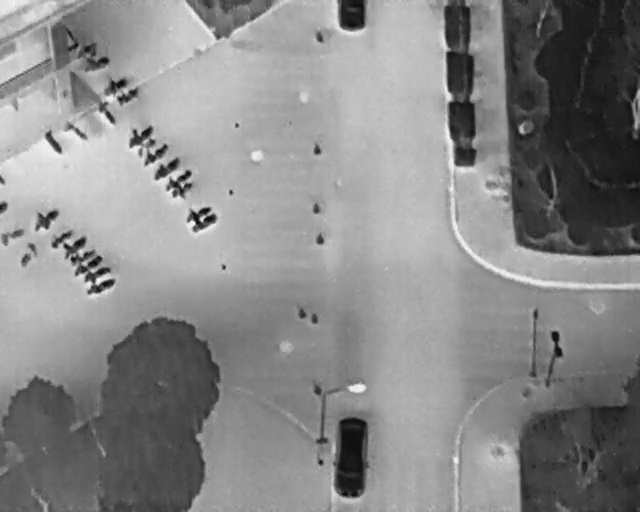Bicycle: (25, 200, 65, 237), (122, 117, 160, 152), (54, 228, 91, 262), (147, 150, 185, 183), (138, 138, 173, 170), (97, 70, 132, 101), (160, 163, 195, 194), (58, 116, 93, 146), (180, 197, 216, 226), (69, 251, 105, 280), (78, 261, 115, 287), (45, 222, 77, 252), (93, 96, 121, 130), (14, 239, 42, 273), (82, 273, 118, 299), (187, 210, 221, 237), (167, 175, 198, 204), (65, 244, 100, 268), (113, 83, 144, 109), (40, 127, 66, 157), (79, 52, 112, 74), (74, 39, 103, 64), (132, 134, 159, 158), (0, 226, 26, 246), (0, 199, 8, 214)
Car: (329, 415, 371, 501), (337, 0, 367, 32)
